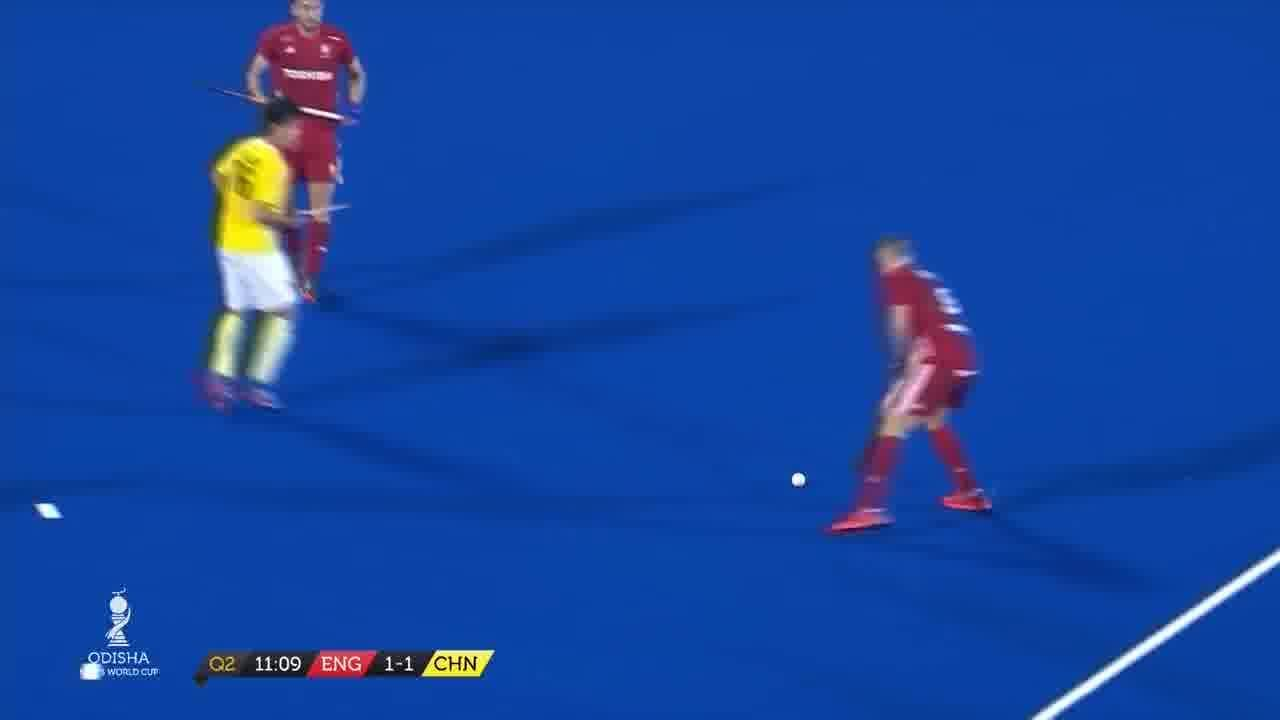ball: (788, 470, 806, 492)
